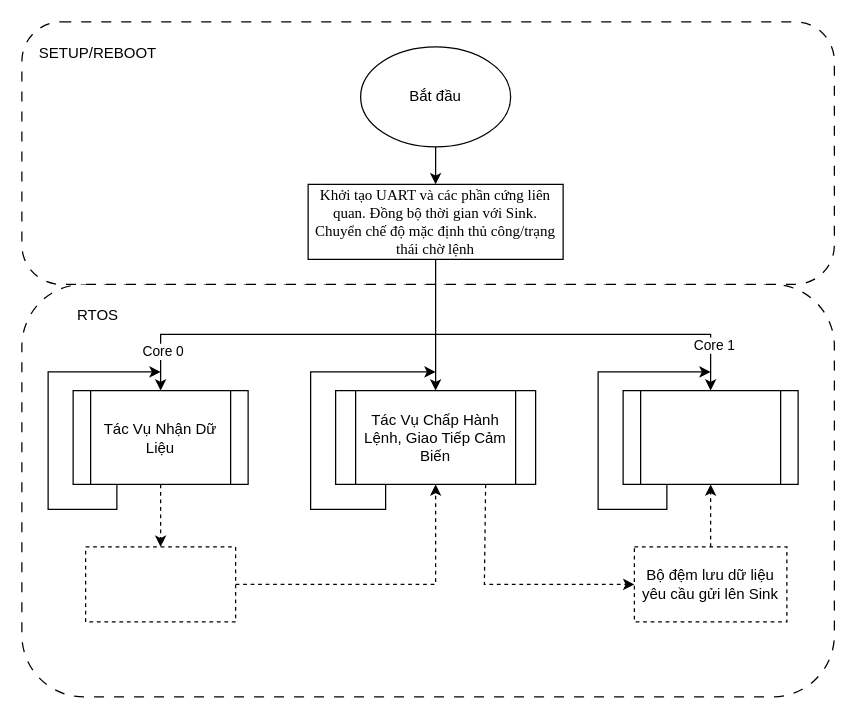
The diagram is 856 pixels wide and 719 high, and some of its shapes have lost their labels. Each missing label, with the centre of its shape:
"Bộ đệm lưu dữ liệu yêu cầu xử lý từ Sink" goes at point 160,584.
"Tác Vụ Gửi Dữ Liệu" goes at point 710,436.
